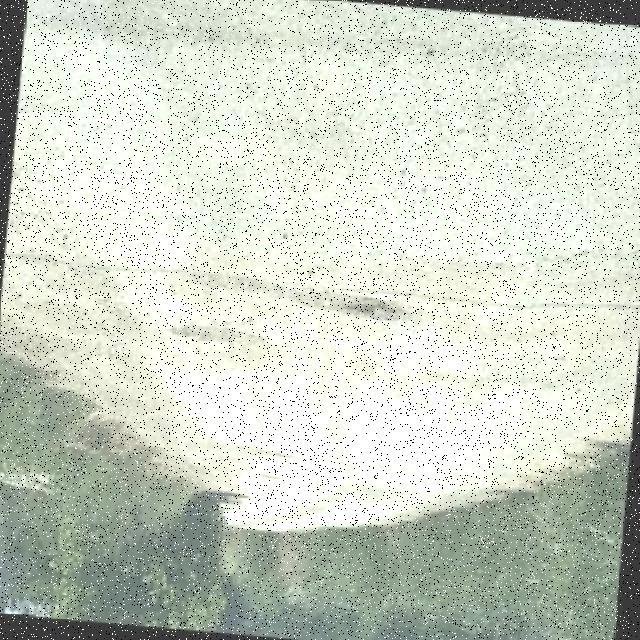Pothole: (198, 274, 411, 321), (169, 324, 267, 357)
